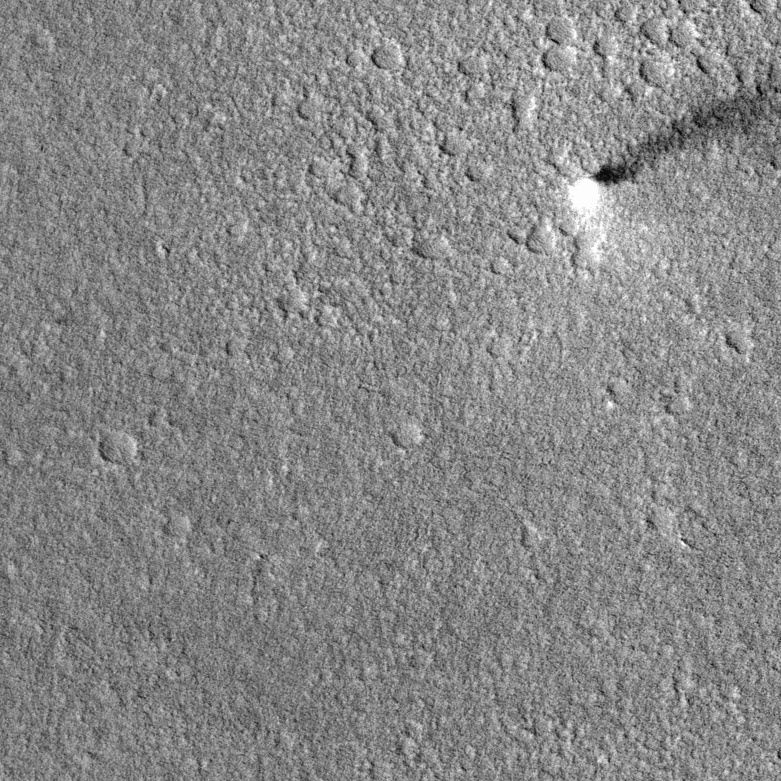dust_devil: (565, 81, 781, 220)
